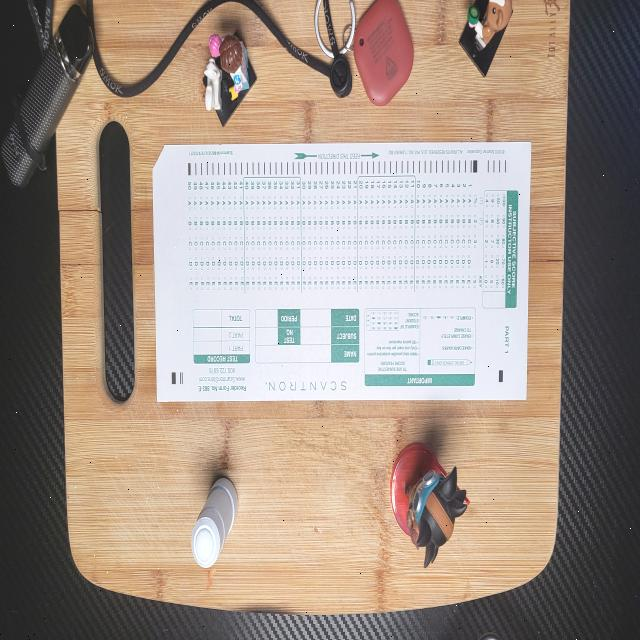scantron: (152, 142, 532, 401)
